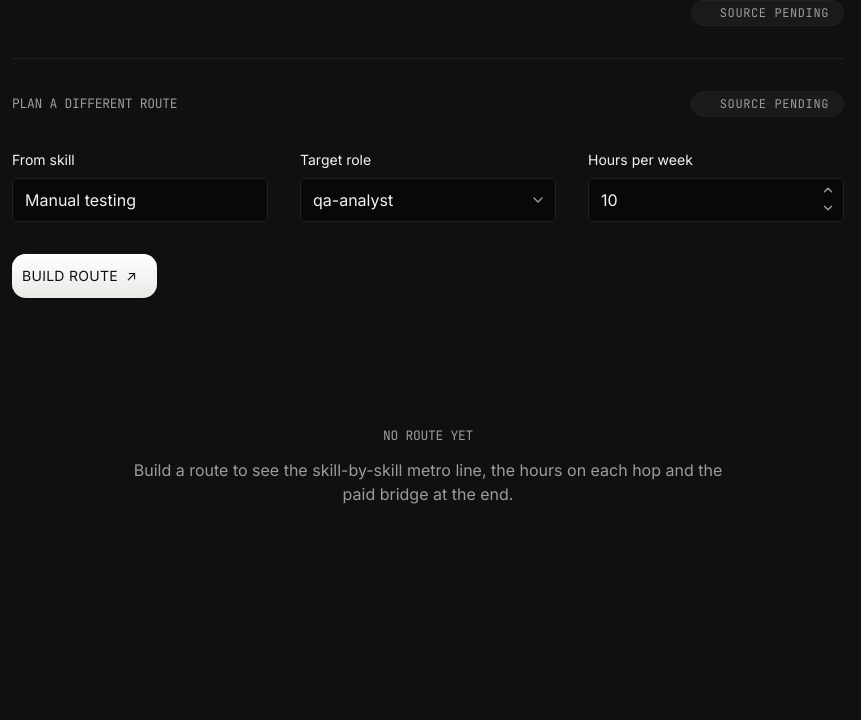
Test: RouteMap › surfaces a server error message and stays retryable
Click the button "Build route ↗": coordinates (85, 276) x1=12 y1=254 x2=157 y2=298
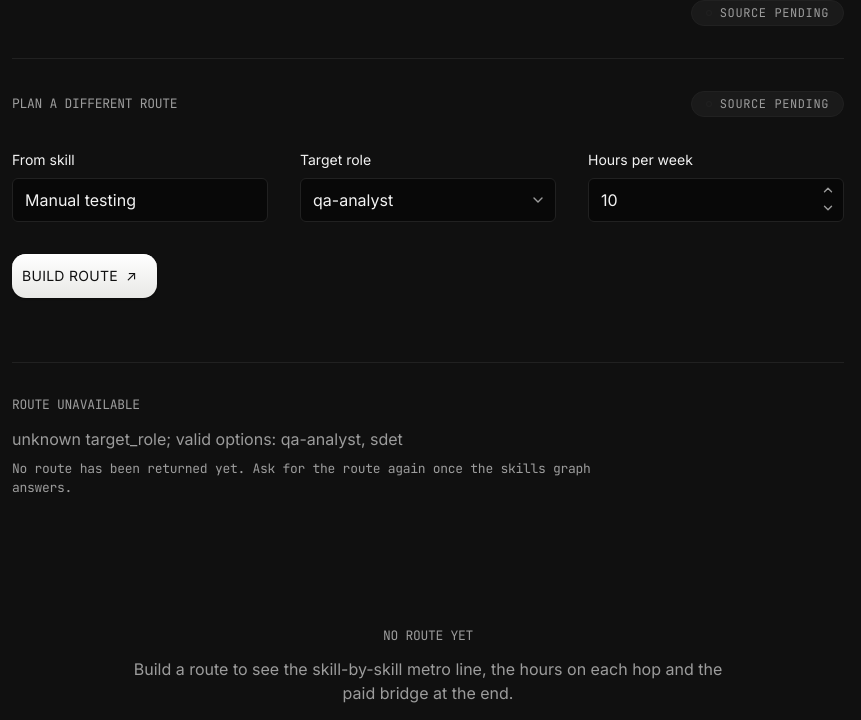
Expected: the message shows "unknown target_role; valid options: qa-analyst, sdet", x1=12 y1=428 x2=403 y2=448
